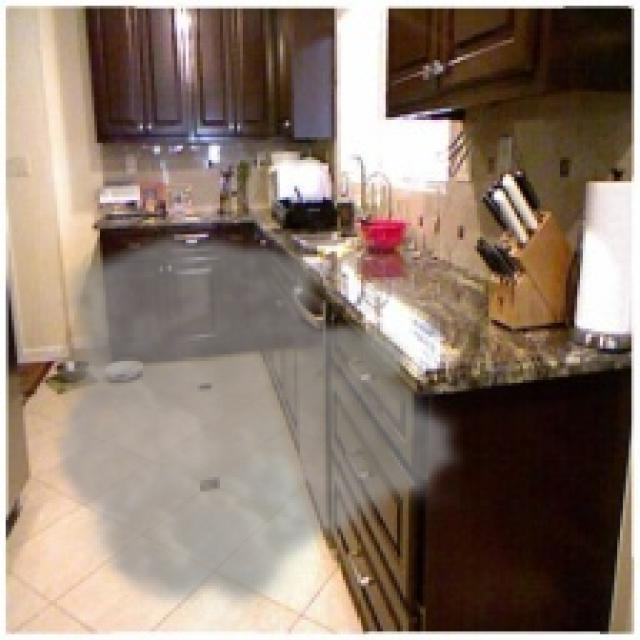Smoke: (49, 225, 468, 618)
